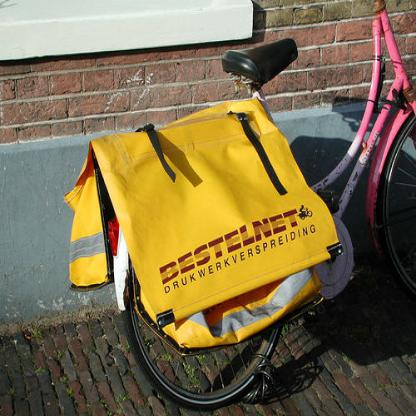bicycle: (109, 0, 415, 411)
